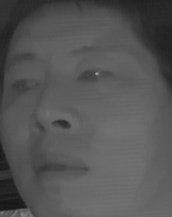eye: (74, 64, 115, 90), (6, 74, 42, 97)
mouth: (31, 147, 90, 187)
